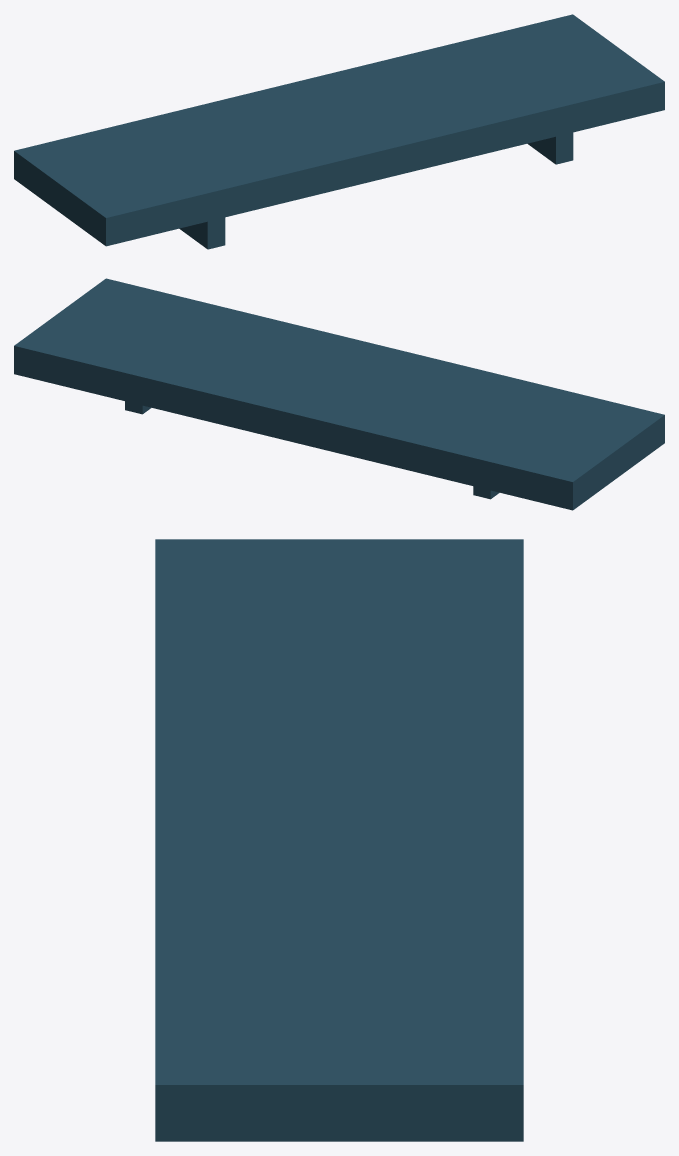
The model's file is Repisa.obj.
3 views of the same model, one above another, from view 1: azimuth 30°, elevation 25°; view 2: azimuth 150°, elevation 25°; view 3: azimuth 270°, elevation 25° (orthographic). The views are drawn at different scales.
Parts seen in each view (by area): view 1: Cube.010_Cube.026; view 2: Cube.010_Cube.026; view 3: Cube.010_Cube.026.
Part boxes in pixels (x1,y1,x2,y2): Cube.010_Cube.026: (14, 14, 664, 249); Cube.010_Cube.026: (14, 278, 664, 510); Cube.010_Cube.026: (155, 539, 523, 1141).
Size of the model in its own units: 14.6 by 1.42 by 4.17.
1 material, 1 textured.
